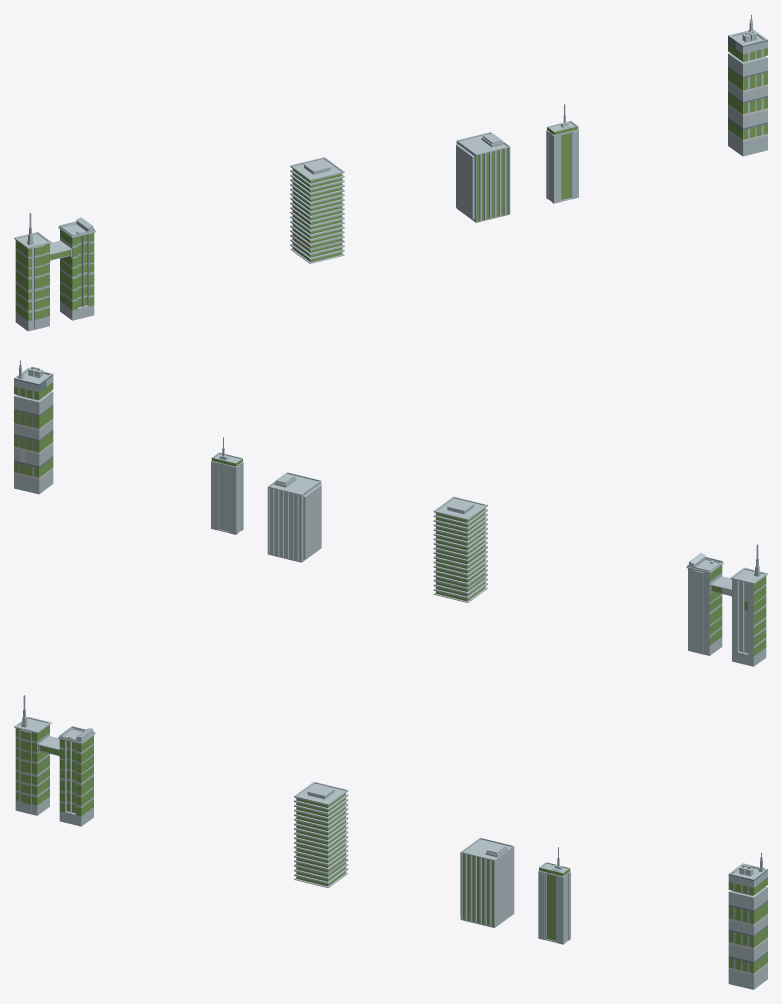
The model's file is Buildings.fbx.
The picture shows the model from 3 angles, top to bottom: view 1: azimuth 30°, elevation 25°; view 2: azimuth 150°, elevation 25°; view 3: azimuth 330°, elevation 25°; orthographic projection.
Visible parts, largest first — view 1: highrise_13, Highrise_19, Highrise_11, Highrise_2, Highrise_5; view 2: highrise_13, Highrise_19, Highrise_11, Highrise_2, Highrise_5; view 3: highrise_13, Highrise_19, Highrise_11, Highrise_2, Highrise_5.
Boxes of the visible parts, x1,y1,x2,y2 form: highrise_13: (14, 213, 95, 331); Highrise_19: (290, 157, 344, 263); Highrise_11: (728, 14, 767, 156); Highrise_2: (456, 132, 510, 222); Highrise_5: (546, 104, 578, 203); highrise_13: (686, 544, 767, 666); Highrise_19: (433, 496, 487, 602); Highrise_11: (14, 360, 53, 494); Highrise_2: (267, 472, 321, 562); Highrise_5: (211, 437, 243, 534); highrise_13: (14, 695, 95, 826); Highrise_19: (294, 781, 348, 887); Highrise_11: (728, 852, 767, 989); Highrise_2: (460, 837, 514, 927); Highrise_5: (538, 847, 570, 944).
Bounding box in the file's own units: 43.57 × 7.19 × 2.06.
